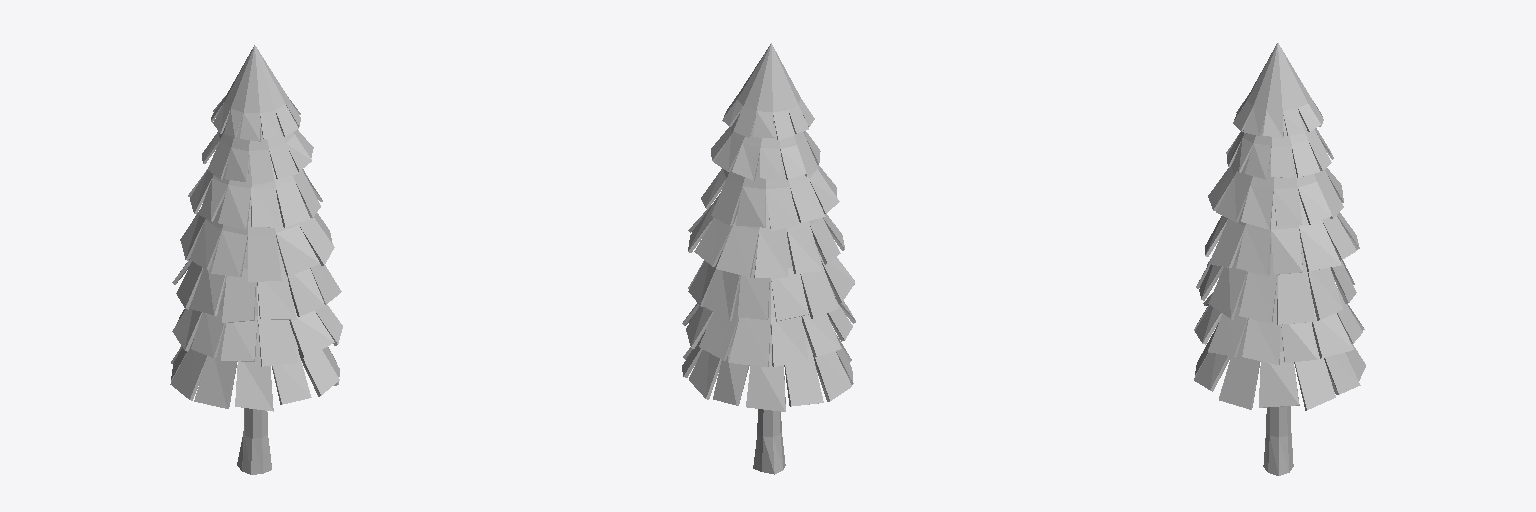
File: tree_lvl_8.obj
3 renders of one model, left to right at view 1: azimuth 30°, elevation 25°; view 2: azimuth 150°, elevation 25°; view 3: azimuth 270°, elevation 25°, orthographic.
Size of the model in its own units: 3.83 by 10.32 by 3.8.